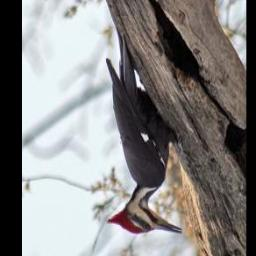Woodpecker: (104, 31, 186, 235)
